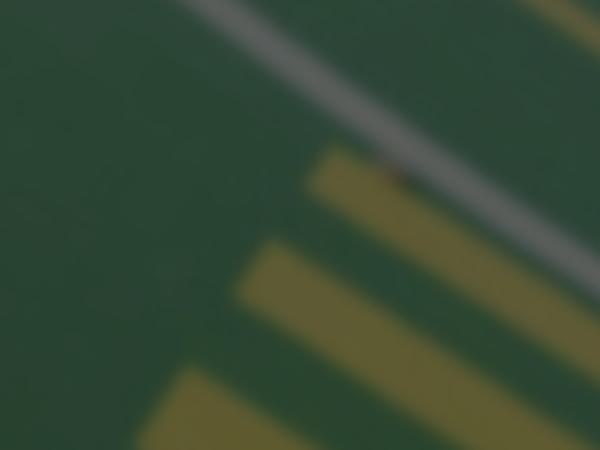Apron: (526, 2, 598, 66)
